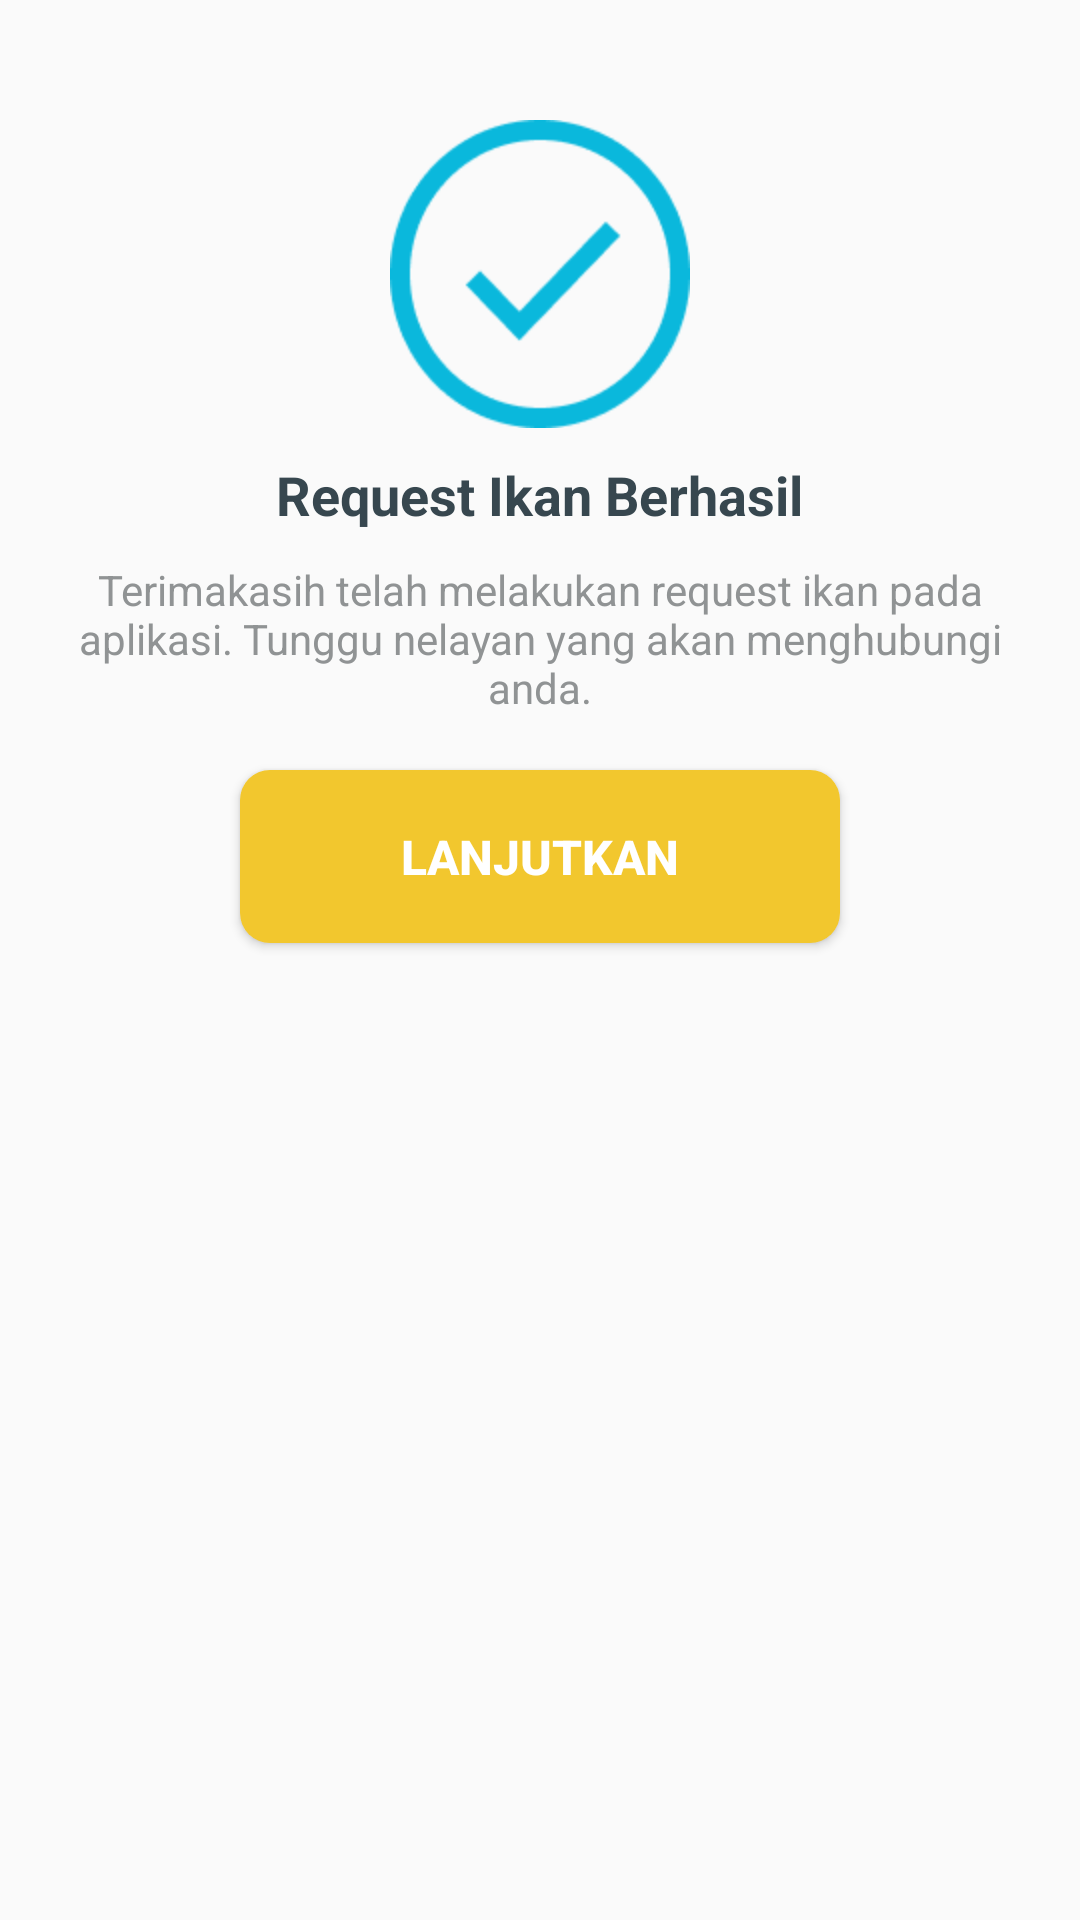

Named icons in this screenshot (1080×1920) and their centers, (x,y):
acc: (540,274)
